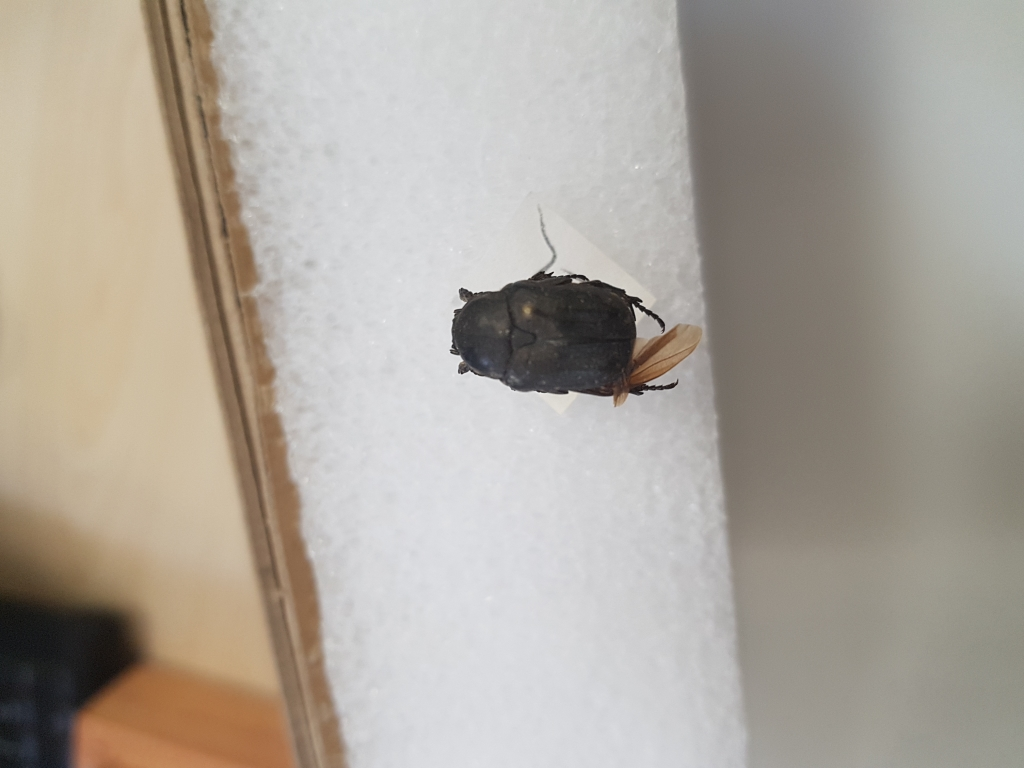Protaetia_asiatica: (442, 266, 706, 410)
